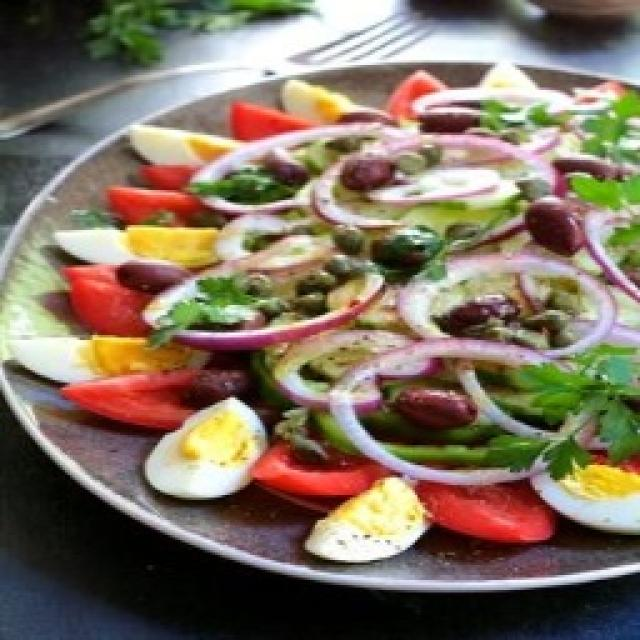Couscous: (115, 185, 640, 240)
